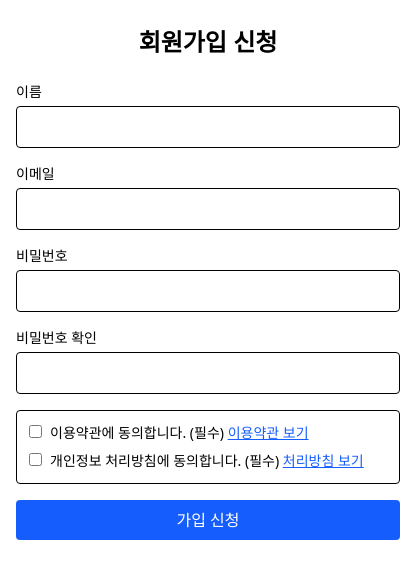
RegisterPage › 개인정보 처리방침 미동의 시 오류 메시지를 표시한다
Type "홍길동" into the field labelled "이름" at (208, 127), box [16, 106, 400, 148]
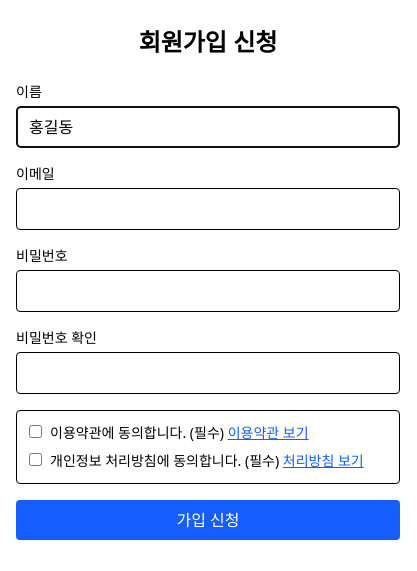
Type "test@example.com" into the field labelled "이메일" at (208, 209), box [16, 188, 400, 230]
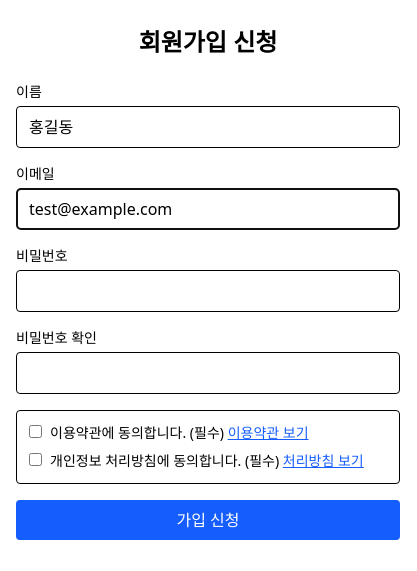
Type "Password1!" into the password field labelled "비밀번호" at (208, 291), box [16, 270, 400, 312]
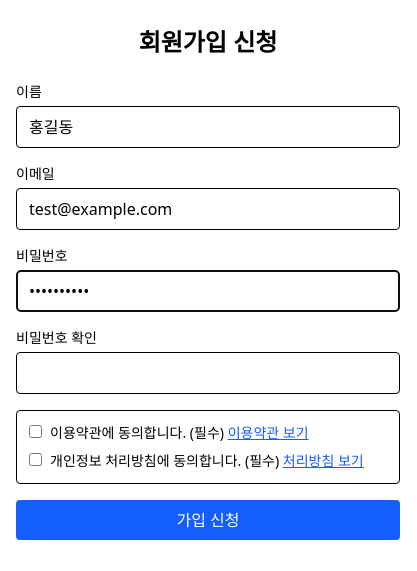
Type "Password1!" into the password field labelled "비밀번호 확인" at (208, 373), box [16, 352, 400, 394]
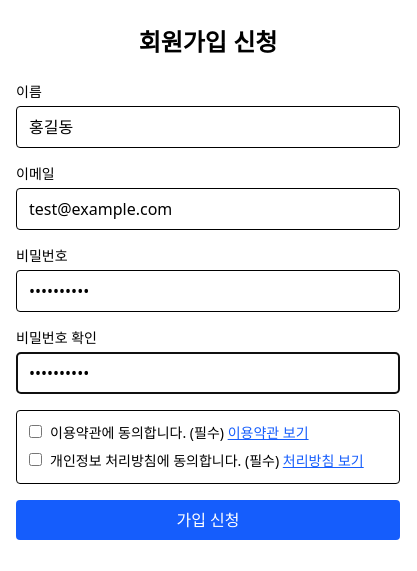
Click the checkbox labelled "이용약관에 동의합니다. (필수) 이용약관 보기" at (36, 432), box [29, 425, 42, 438]
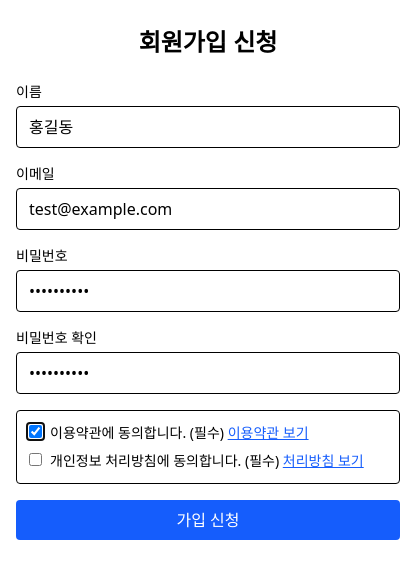
Click the button "가입 신청" at (208, 520), box [16, 500, 400, 540]
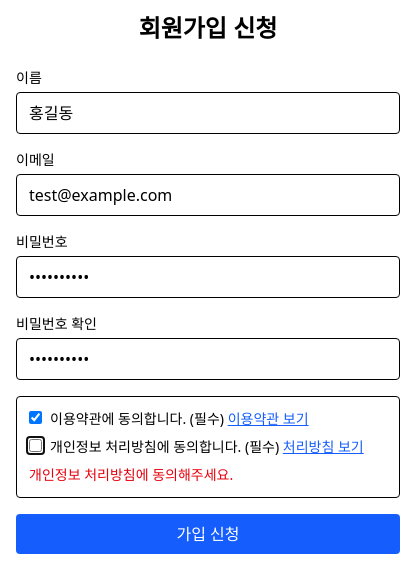
Now the text "개인정보 처리방침에 동의해주세요." is shown, box [29, 465, 233, 484]
